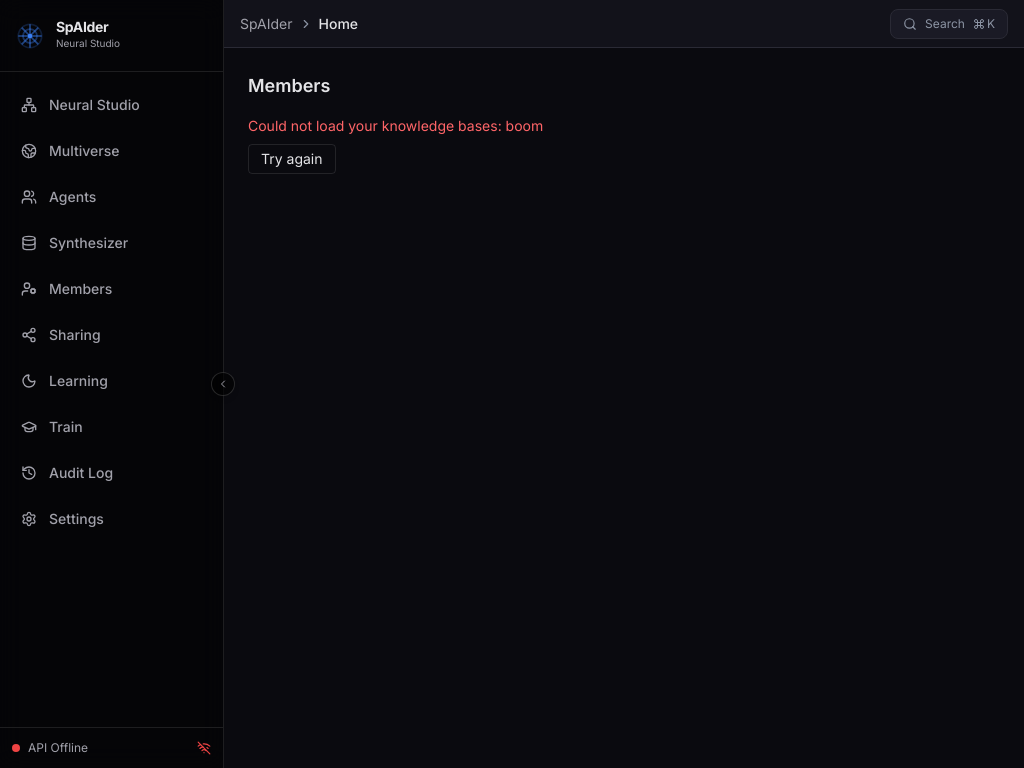
Test: KbPage › lets the user try again after a failure
This screenshot has width=1024, height=768.
Click the button "Try again": point(292, 159) [248, 144, 336, 174]
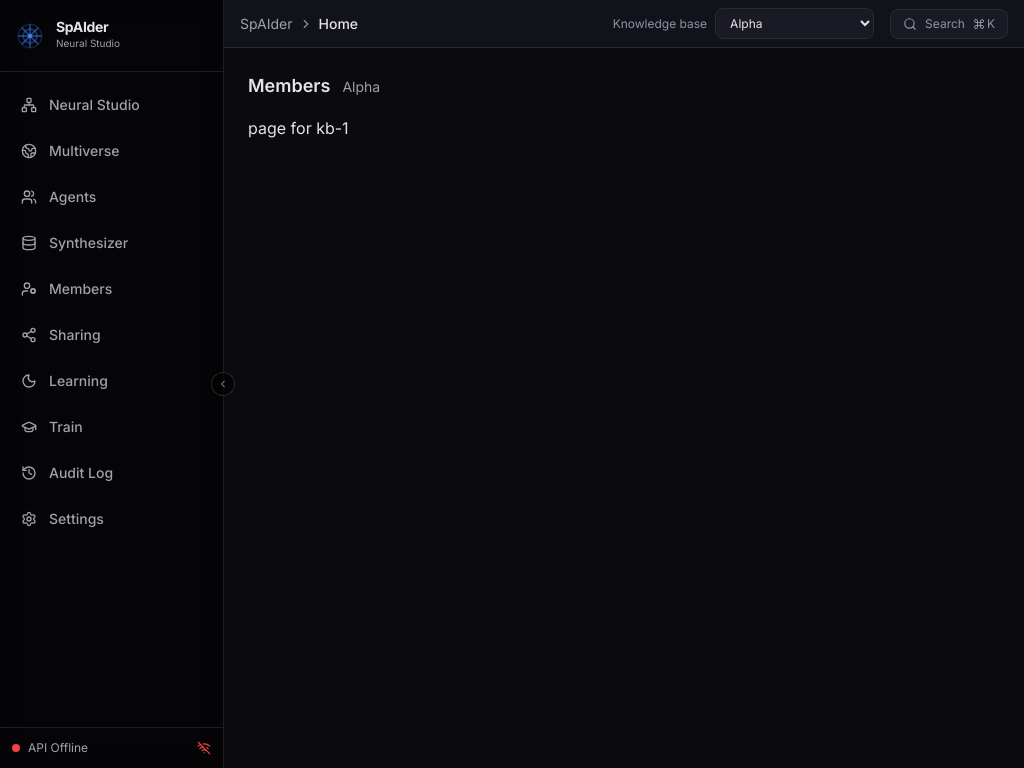
Expected: the text "page for kb-1" is shown, [248, 118, 349, 138]
